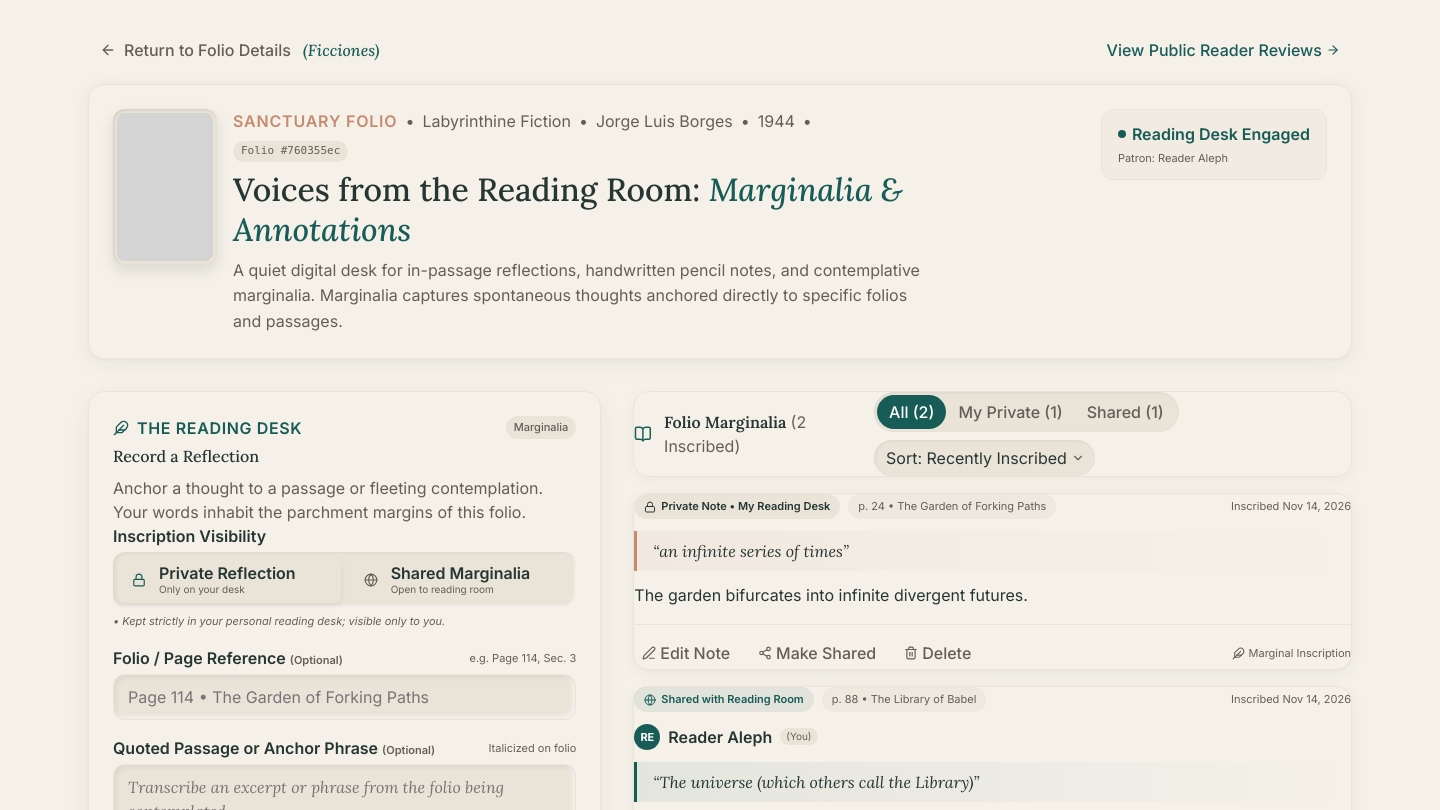
Test case: ReadingRoomPage › updates an annotation in place when saving edit changes
Check: the text "The garden bifurcates into infinite divergent futures." is shown, box [634,585,1028,605]
Click the button "Edit Note".
click(686, 653)  # box [634,637,738,669]
(page scrolled)
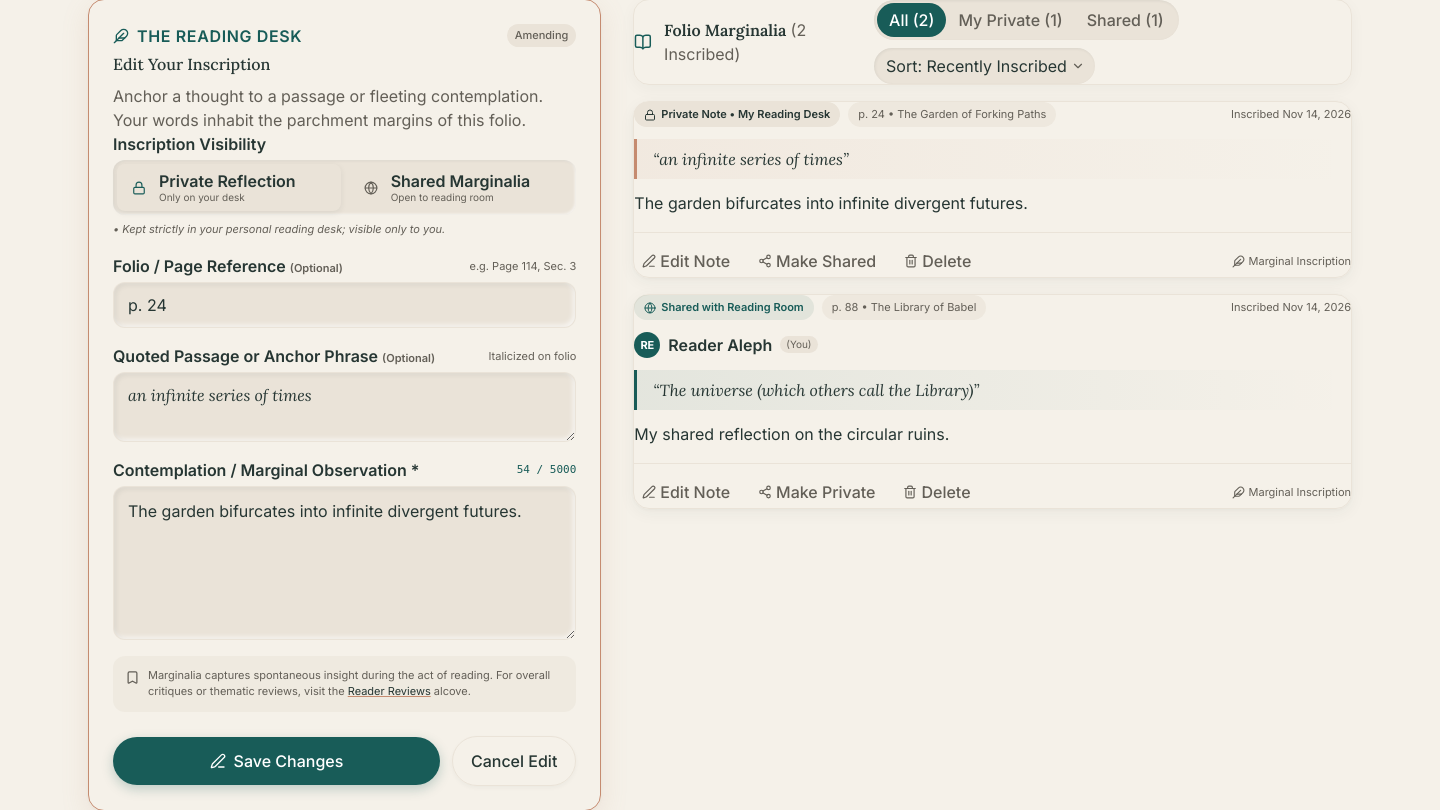
Replace the text in the text box with placeholder "Transcribe your contemplation, question, or marginal observation" with "Updated: Time is a labyrinth of bifurcations." at point(345, 563), box [113,486,576,640]
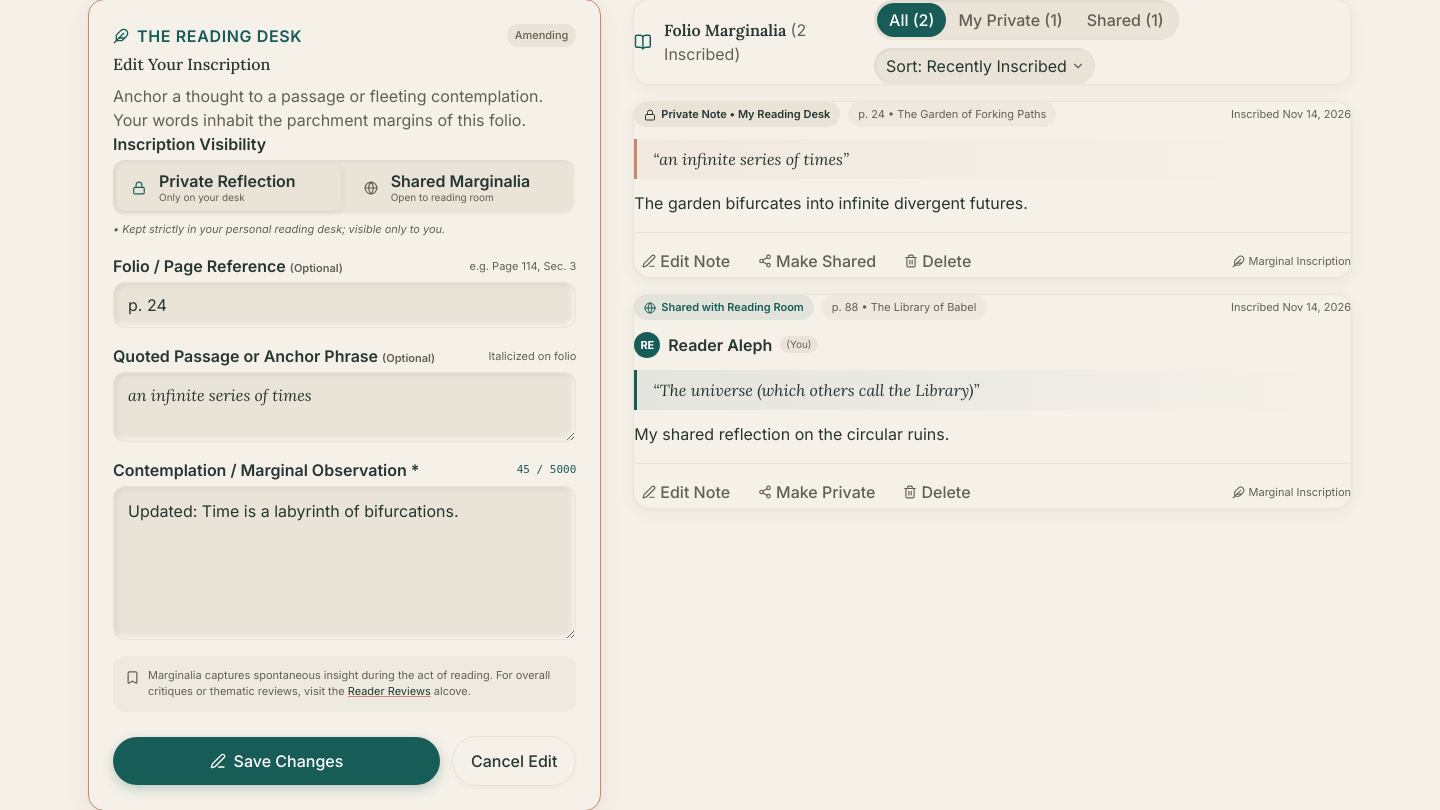
Click the button "Save Changes".
click(276, 761)  # box [113,737,440,785]
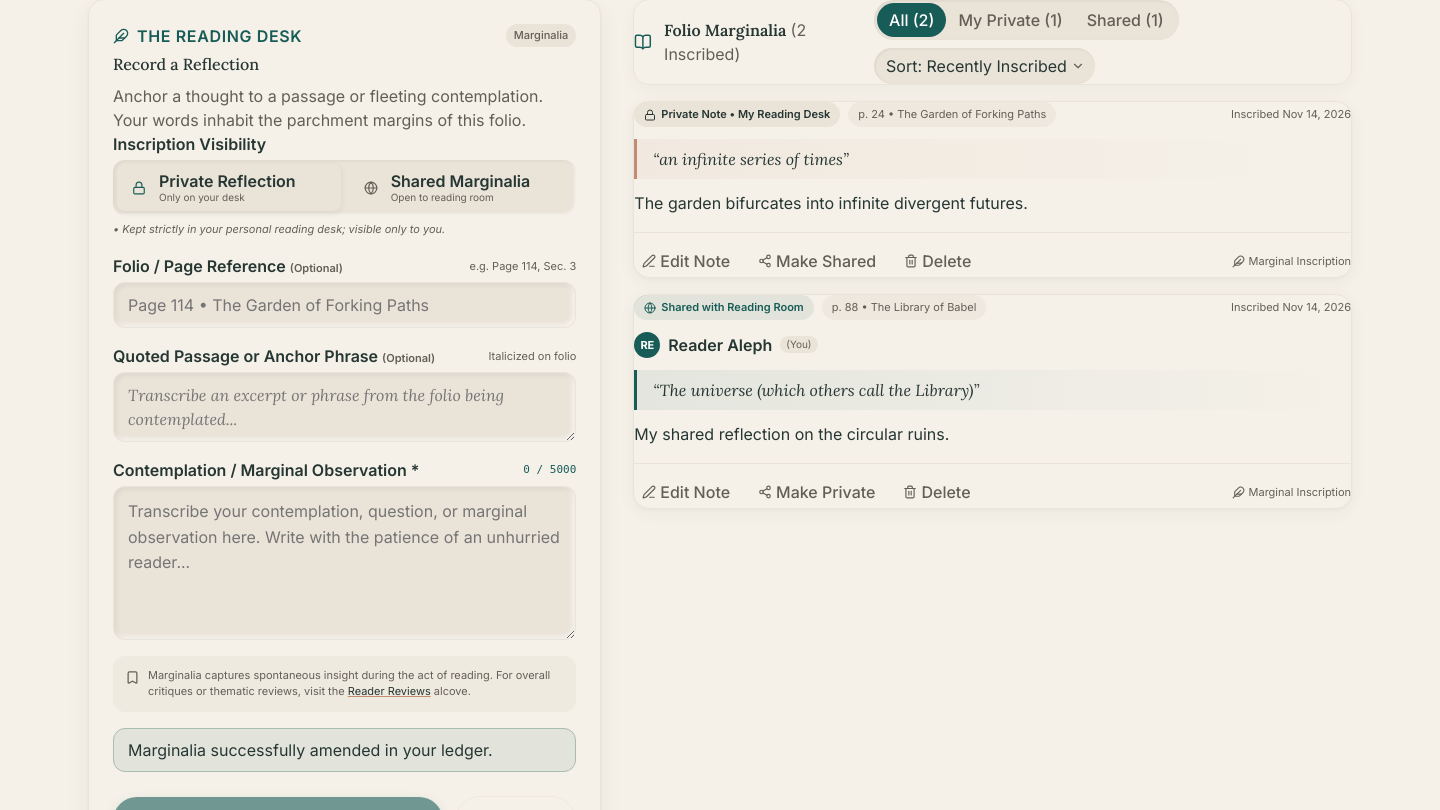
Check: the text "Marginalia successfully amended in your ledger." is shown, box [113,728,576,772]
